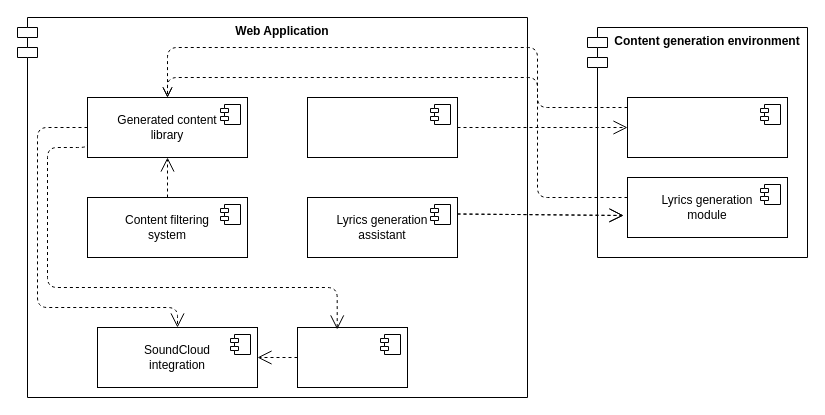
Image size: 825x415. Some labels were removed from this diagram. The shapes that lost their labels are listed below. From the top down, each one's centre as x and y in pixels, then its label:
point (382, 127): Music generation assistant
point (707, 127): Music generation module
point (352, 357): Database
